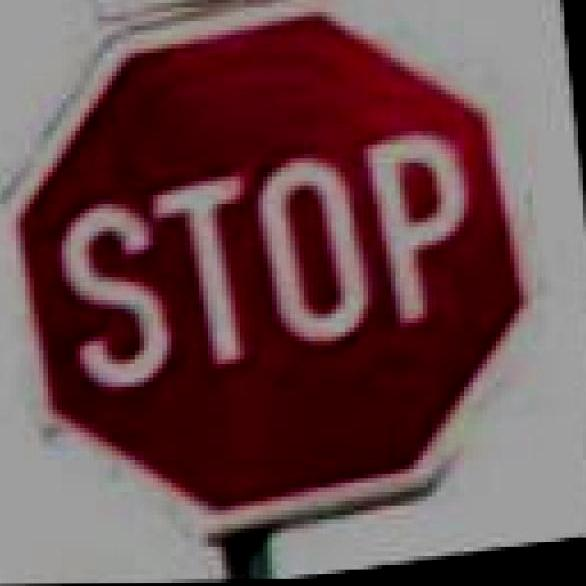stop_sign: (0, 0, 567, 563)
